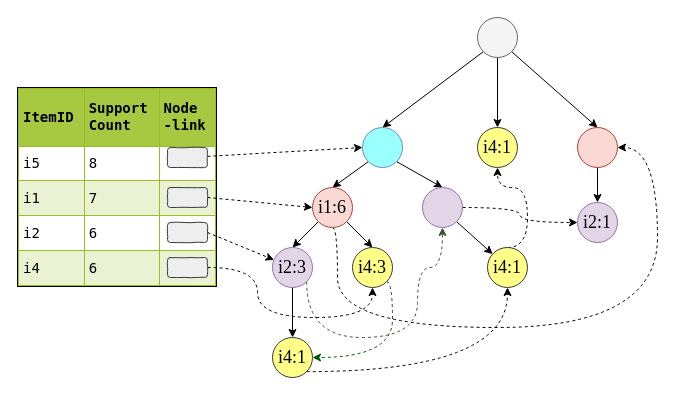
The diagram is 675 pixels wide and 395 high, and some of its shapes have lost their labels. Here are the shapes that lost their labels. From the top down, the centre of each, then its label:
At point (497, 37): "null".
At point (382, 147): "i5:8".
At point (597, 147): "i1:1".
At point (442, 207): "i2:2".
